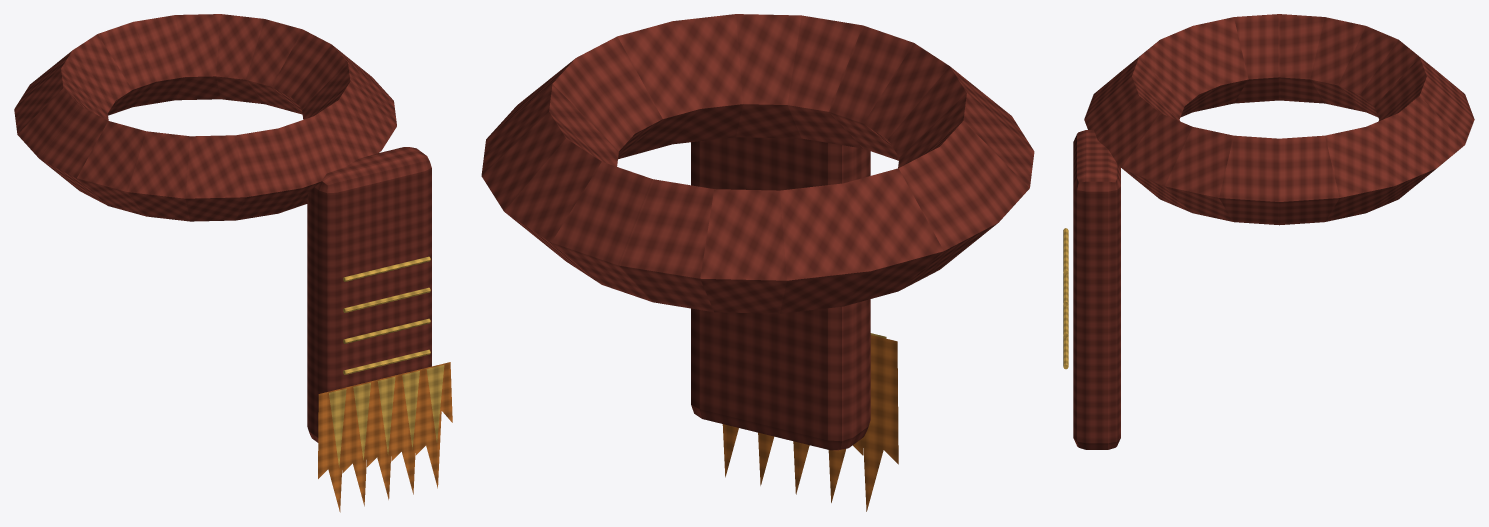
File: streak_flame_scarf.glb
3 views of the same model, side by side, from view 1: azimuth 30°, elevation 25°; view 2: azimuth 150°, elevation 25°; view 3: azimuth 270°, elevation 25° (orthographic). The views are drawn at different scales.
Parts seen in each view (by area): view 1: neck_wrap, scarf_tail, flame_trim, flame_trim.003, flame_trim.004, flame_trim.001, flame_trim.002, flame_core, flame_core.002, flame_core.003, flame_core.001, flame_core.004 (+4 smaller); view 2: neck_wrap, scarf_tail, flame_trim, flame_trim.001; view 3: neck_wrap, scarf_tail.
Part boxes in pixels (<box>): neck_wrap: <box>14,14,396,221</box>; scarf_tail: <box>307,147,431,442</box>; flame_trim: <box>318,386,354,512</box>; flame_trim.003: <box>391,368,427,494</box>; flame_trim.004: <box>415,362,452,488</box>; flame_trim.001: <box>342,380,379,506</box>; flame_trim.002: <box>366,374,403,499</box>; flame_core: <box>329,388,346,467</box>; flame_core.002: <box>377,376,395,454</box>; flame_core.003: <box>402,370,419,449</box>; flame_core.001: <box>353,382,370,460</box>; flame_core.004: <box>426,365,444,442</box>; neck_wrap: <box>481,14,1034,313</box>; scarf_tail: <box>691,137,870,450</box>; flame_trim: <box>863,335,898,511</box>; flame_trim.001: <box>828,438,863,502</box>; neck_wrap: <box>1084,14,1474,225</box>; scarf_tail: <box>1073,130,1120,449</box>.
Size of the model in its own units: 0.45 by 0.475 by 0.474.
Materials: 3 (3 with a texture image).
